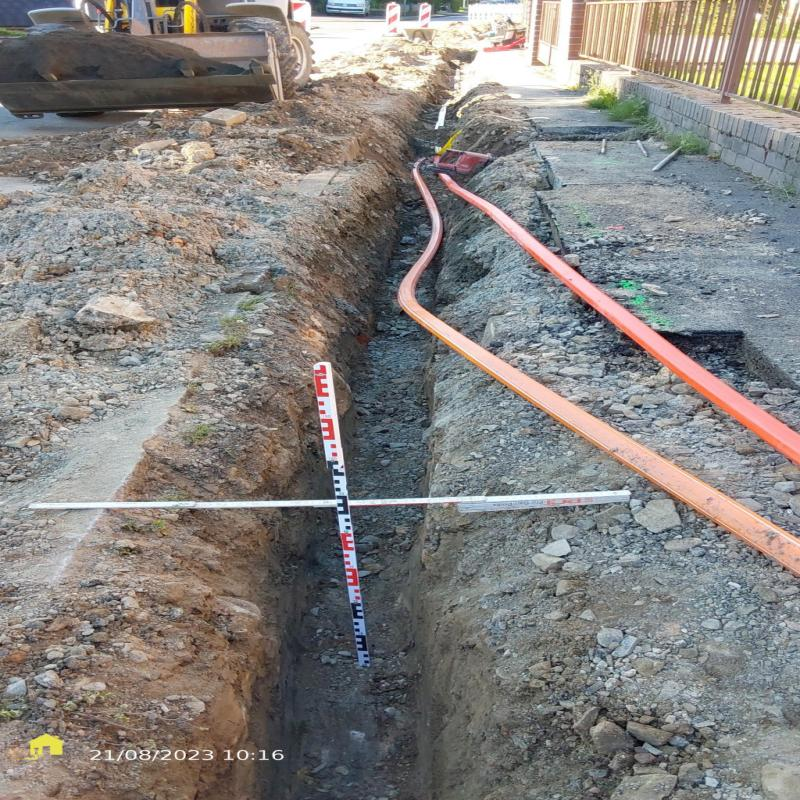Orang-Speednetrohrchen: (394, 186, 797, 572), (438, 174, 800, 466)
